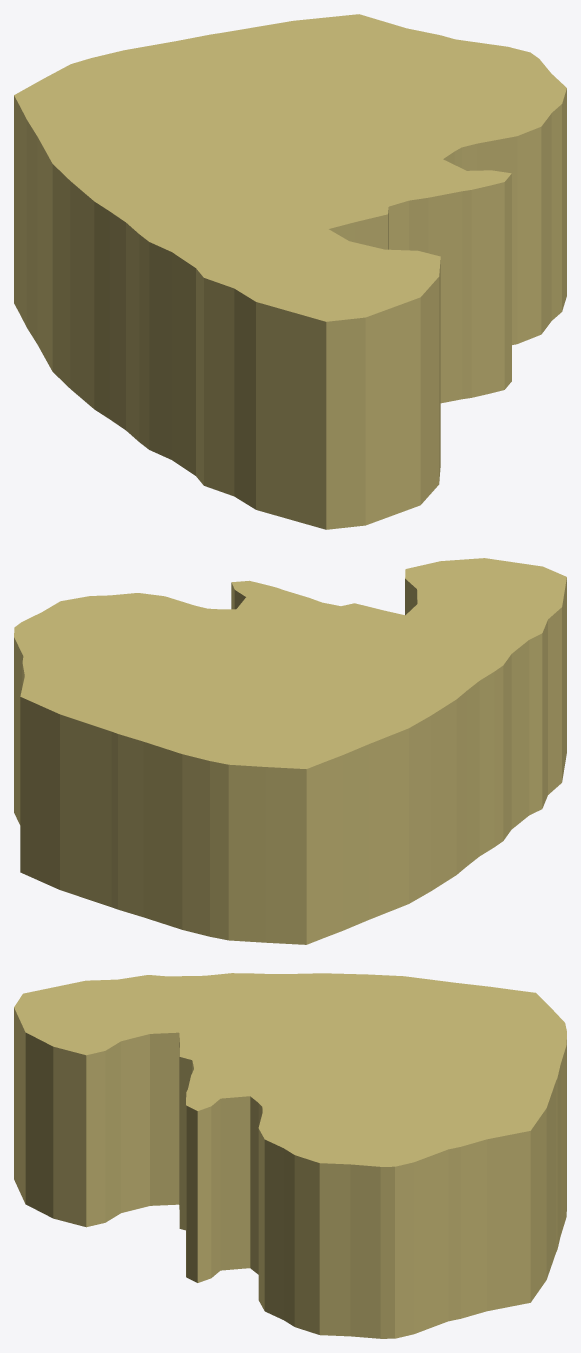
Rendered from Big_MountainLeft.dae.
The picture shows the model from 3 angles, top to bottom: view 1: azimuth 30°, elevation 25°; view 2: azimuth 150°, elevation 25°; view 3: azimuth 270°, elevation 25°; orthographic projection. The views are drawn at different scales.
Visible parts, largest first — view 1: Object_001; view 2: Object_001; view 3: Object_001.
Boxes of the visible parts, x1,y1,x2,y2 form: Object_001: (14,14,566,529); Object_001: (14,558,566,944); Object_001: (14,973,566,1338).
Bounding box in the file's own units: 20.96 × 25.28 × 8.67.
